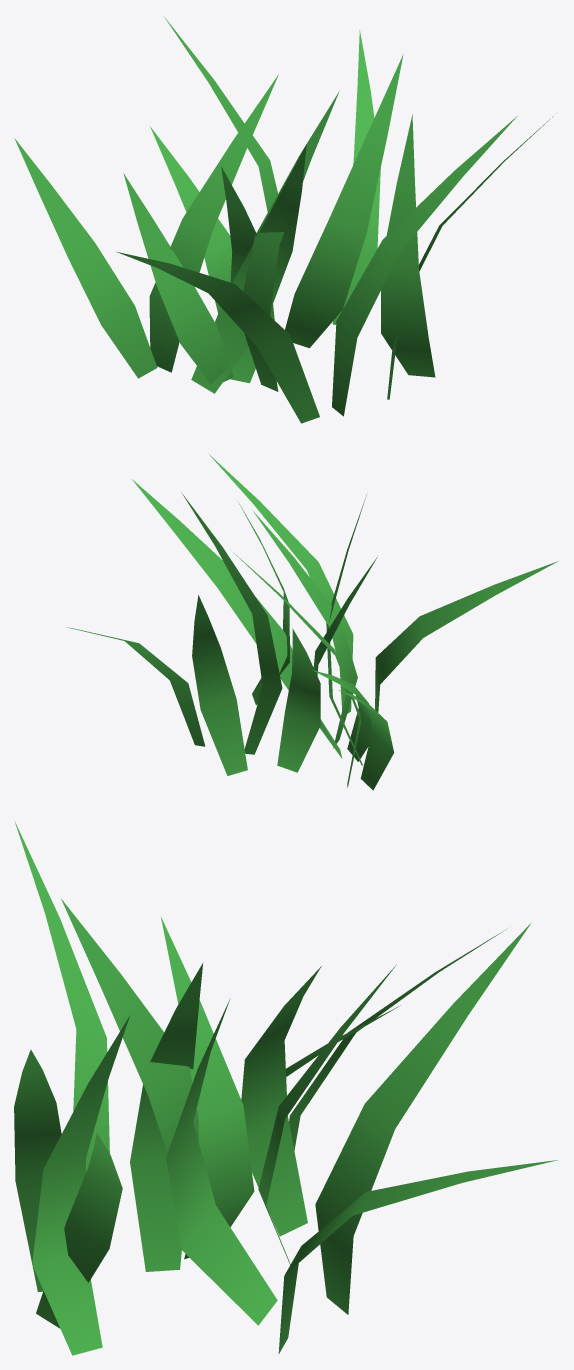
Rendered from Grass_Bades.fbx.
The picture shows the model from 3 angles, top to bottom: view 1: azimuth 30°, elevation 25°; view 2: azimuth 150°, elevation 25°; view 3: azimuth 270°, elevation 25°; orthographic projection. The views are drawn at different scales.
Parts seen in each view (by area): view 1: GrassBlades; view 2: GrassBlades; view 3: GrassBlades.
Boxes of the visible parts, x1=… form: GrassBlades: x1=14, y1=17, x2=556, y2=423; GrassBlades: x1=67, y1=453, x2=558, y2=790; GrassBlades: x1=14, y1=821, x2=557, y2=1355.
Bounding box in the file's own units: 151 × 85.66 × 110.
